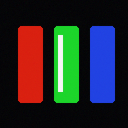4 line_v: (58, 35, 62, 91)
